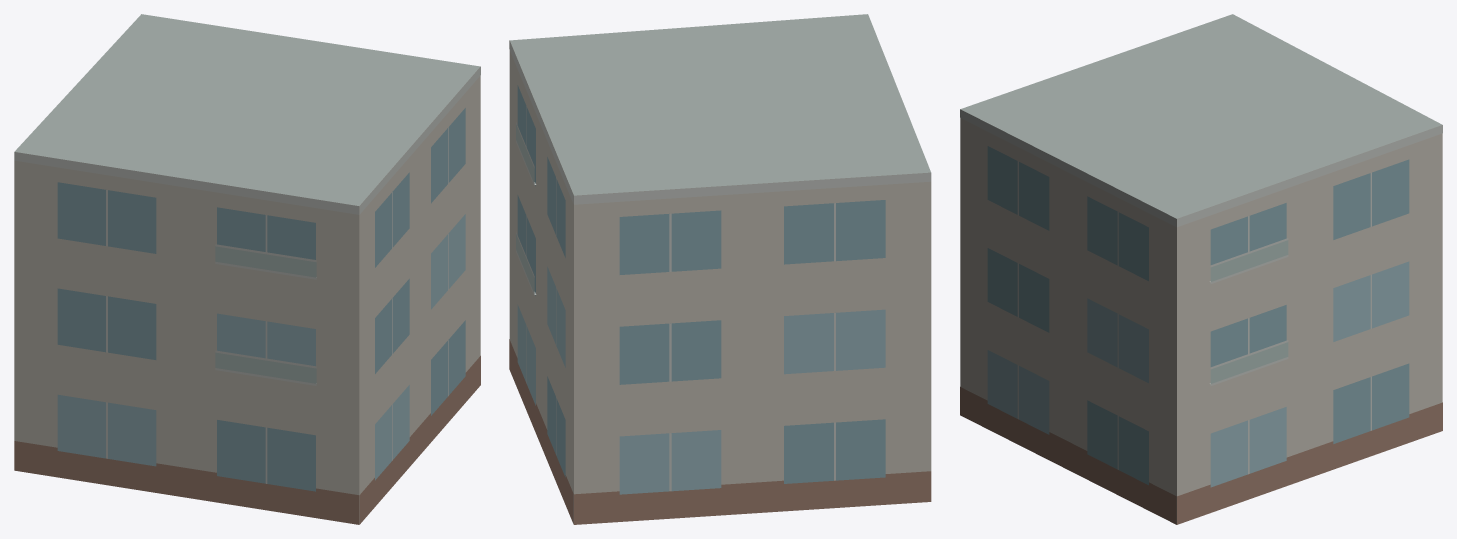
Rendered from survey-upis-32977483.glb.
3 renders of one model, left to right at view 1: azimuth 30°, elevation 25°; view 2: azimuth 150°, elevation 25°; view 3: azimuth 270°, elevation 25°, orthographic. The views are drawn at different scales.
Visible parts, largest first — view 1: survey-upis-32977483.tmp; view 2: survey-upis-32977483.tmp; view 3: survey-upis-32977483.tmp.
Part boxes in pixels (x1,y1,x2,y2): survey-upis-32977483.tmp: [14, 14, 480, 524]; survey-upis-32977483.tmp: [509, 14, 931, 524]; survey-upis-32977483.tmp: [960, 14, 1442, 524].
Size of the model in its own units: 12.64 by 8.8 by 12.59.
